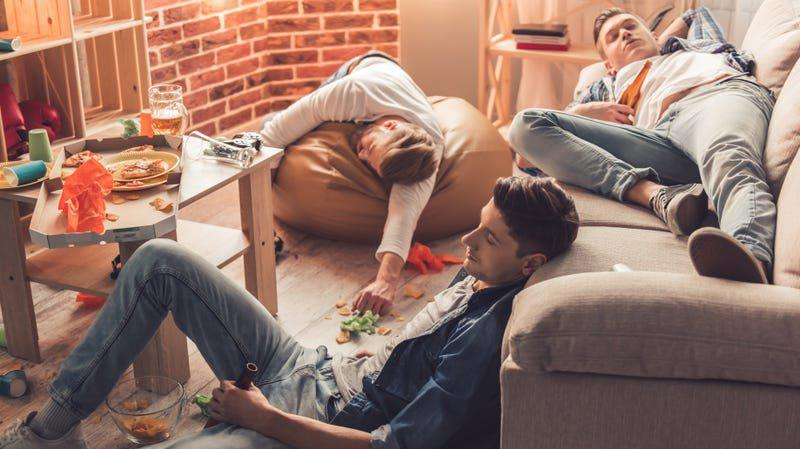Drunk: (600, 19, 654, 55)
